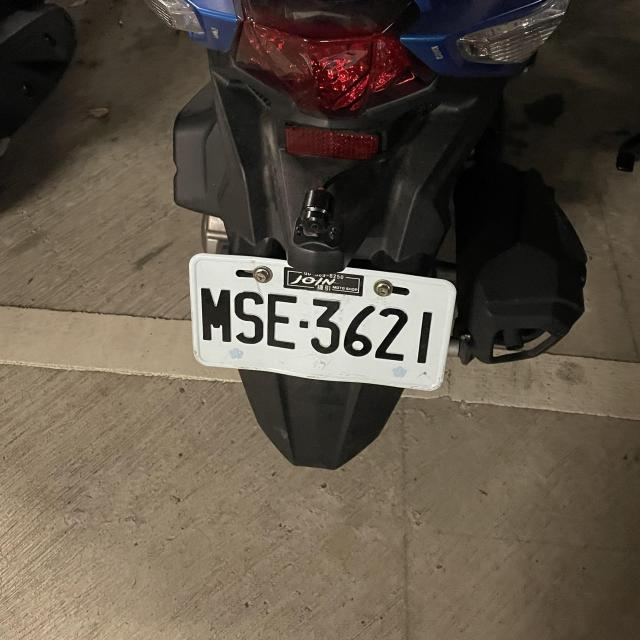W: (184, 253, 454, 389)
